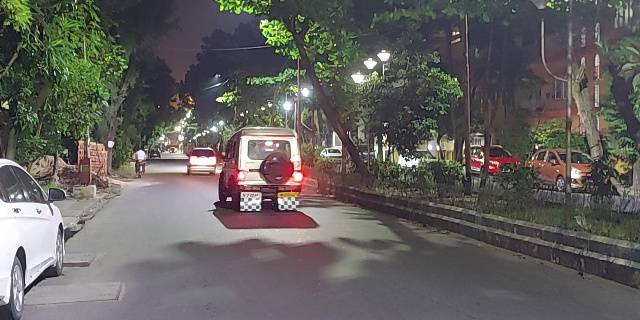Car: (217, 126, 302, 208), (185, 146, 220, 178)
